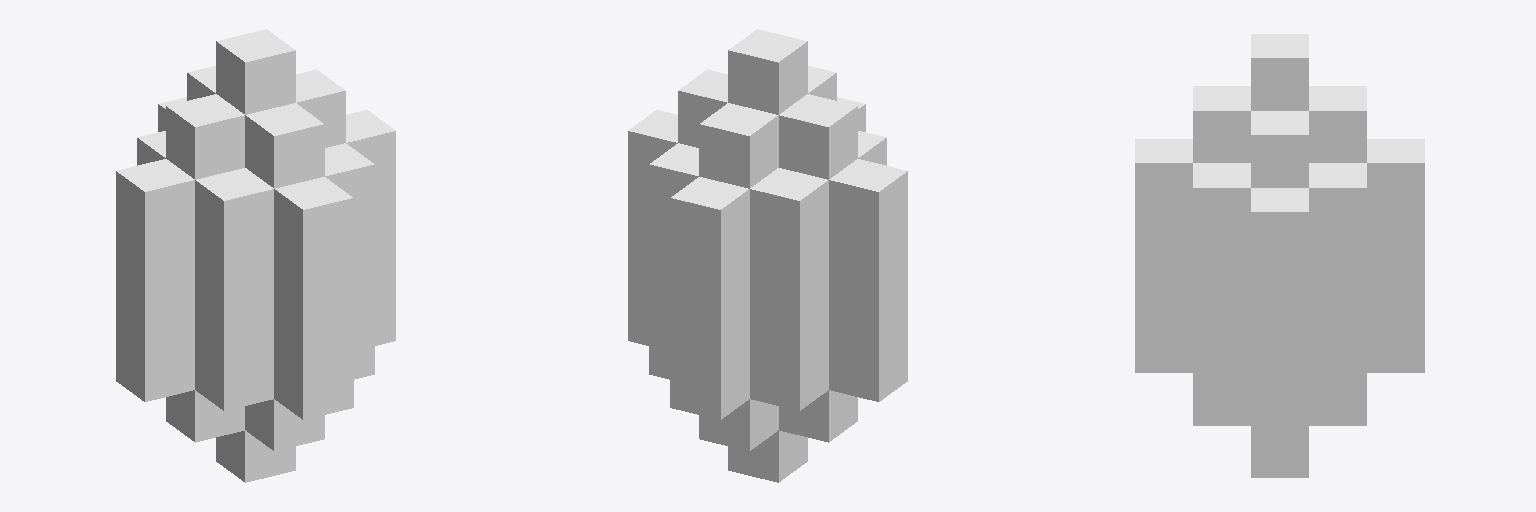
The model's file is Opal.obj.
3 views of the same model, side by side, from view 1: azimuth 30°, elevation 25°; view 2: azimuth 150°, elevation 25°; view 3: azimuth 270°, elevation 25° (orthographic).
Size of the model in its own units: 10 by 16 by 10.